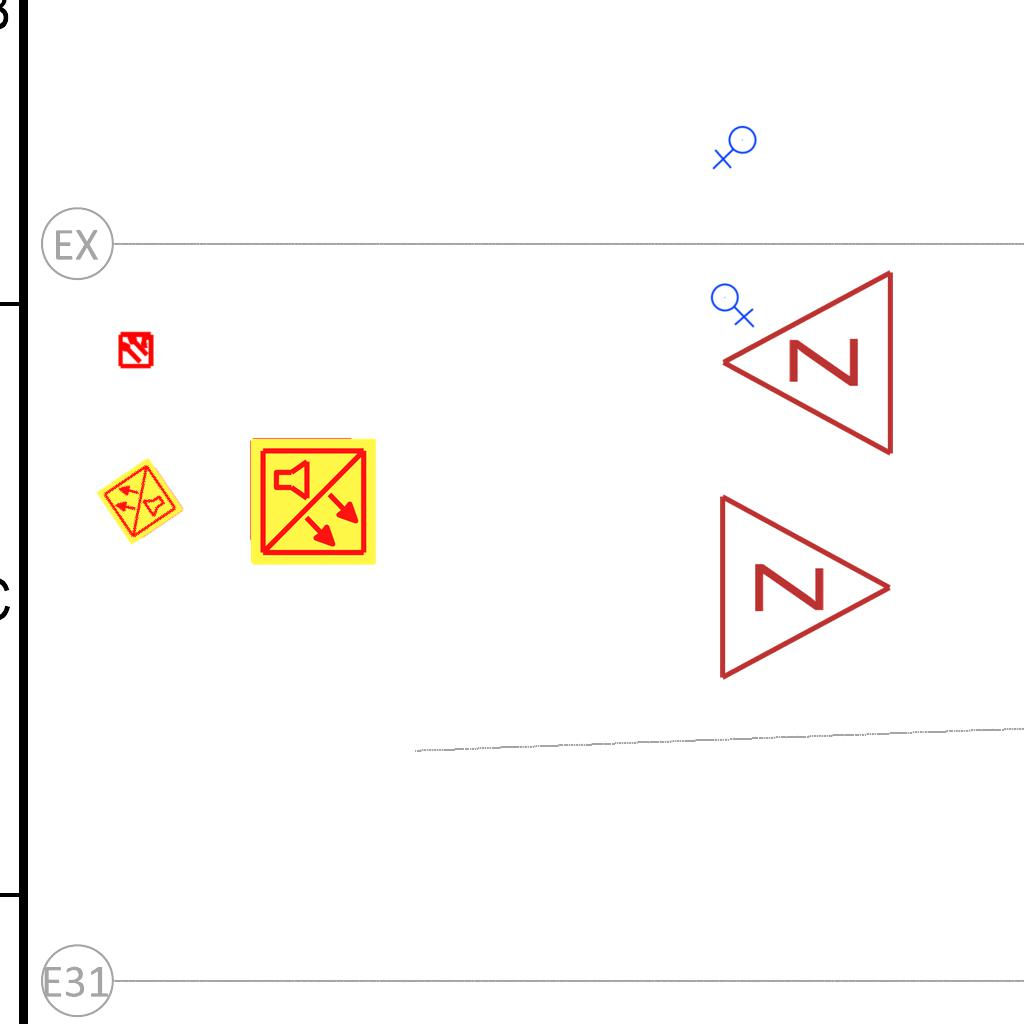Elektroanschluss_allgemein_230V_Geraeteanschlussdose_230V: (712, 125, 761, 172), (710, 279, 757, 328)
OKW_Multisensormelder_(Kombination_optischer_Rauch-Kahlenmonoxid_Waerme-Melder): (247, 436, 379, 568), (94, 455, 186, 547)
OT_Multisensormelder_(Kombination_RMO_WMD): (108, 321, 164, 377)
Zimmersignalleuchte: (705, 487, 905, 683), (708, 267, 908, 463)
